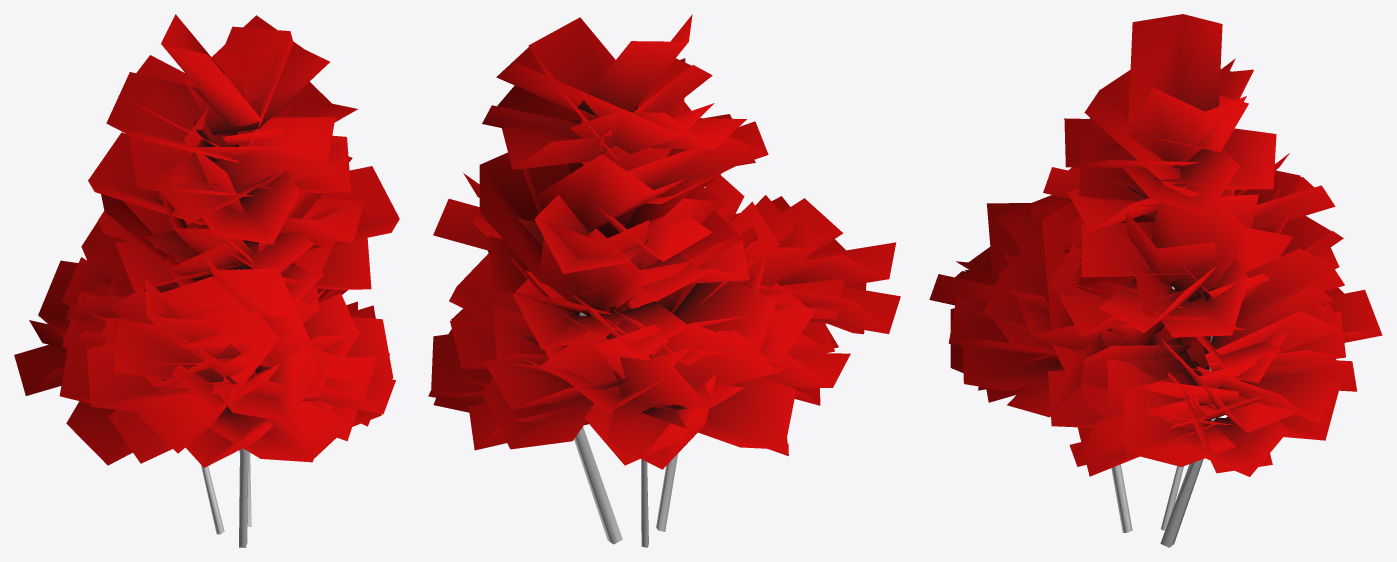
Rendered from Bush2.fbx.
3 views of the same model, side by side, from view 1: azimuth 30°, elevation 25°; view 2: azimuth 150°, elevation 25°; view 3: azimuth 270°, elevation 25° (orthographic). The views are drawn at different scales.
Visible parts, largest first — view 1: Leafs2, Sticks2; view 2: Leafs2, Sticks2; view 3: Leafs2, Sticks2.
Boxes of the visible parts, bbox=[...] form: Leafs2: bbox=[14, 14, 399, 467]; Sticks2: bbox=[201, 269, 251, 547]; Leafs2: bbox=[428, 14, 900, 469]; Sticks2: bbox=[574, 312, 677, 547]; Leafs2: bbox=[929, 14, 1382, 476]; Sticks2: bbox=[1111, 286, 1215, 547].
Size of the model in its own units: 1.61 by 2.21 by 1.82.
